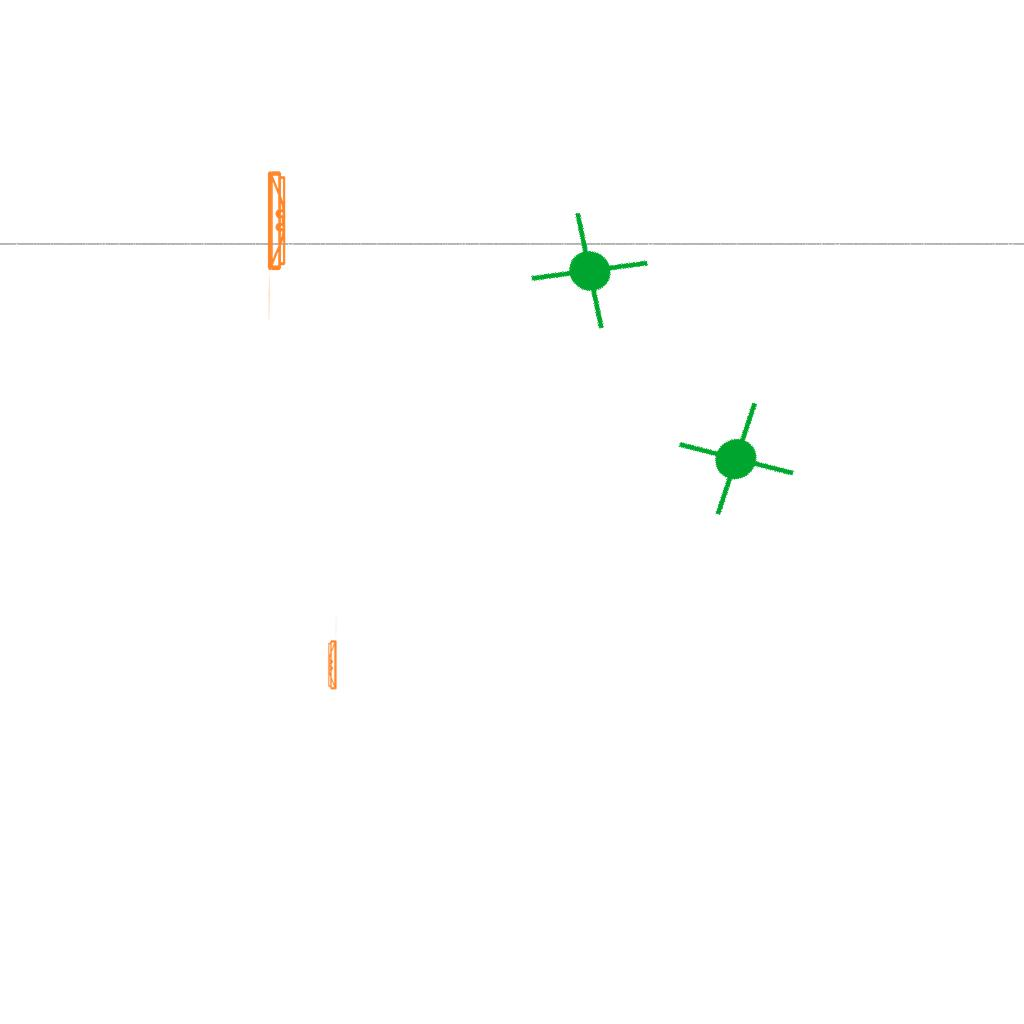Notlichtbaustein_in_Allgemeinbeleuchtug_engebaut_Einbau_(1UG_und_2UG_Aufbauvaria: (519, 198, 662, 342), (668, 391, 805, 529)
Sicherheitsleuchte_Wandeinbau: (265, 166, 290, 325), (326, 613, 338, 692)
